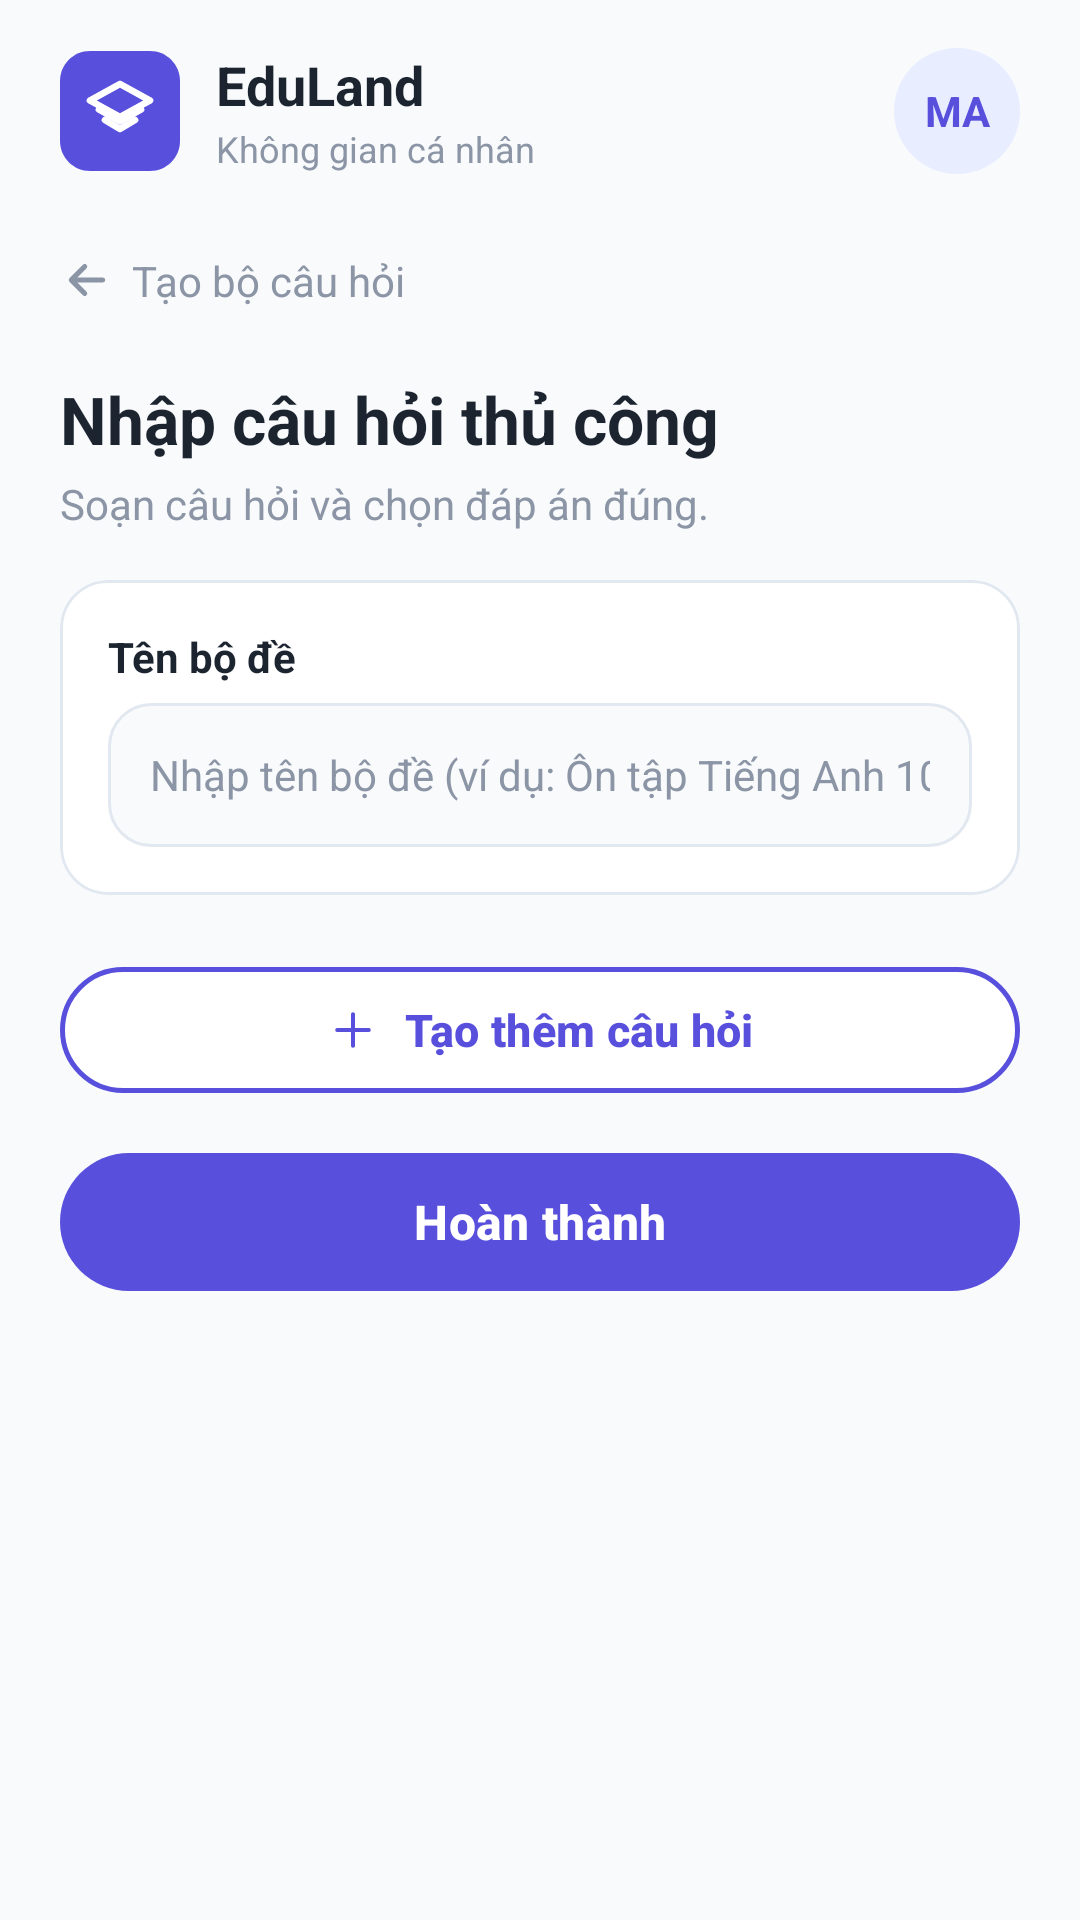

Point at icon controls on the screen. Image size 1080 × 1920, points as (x=x, y=y).
back: (x=87, y=280)
